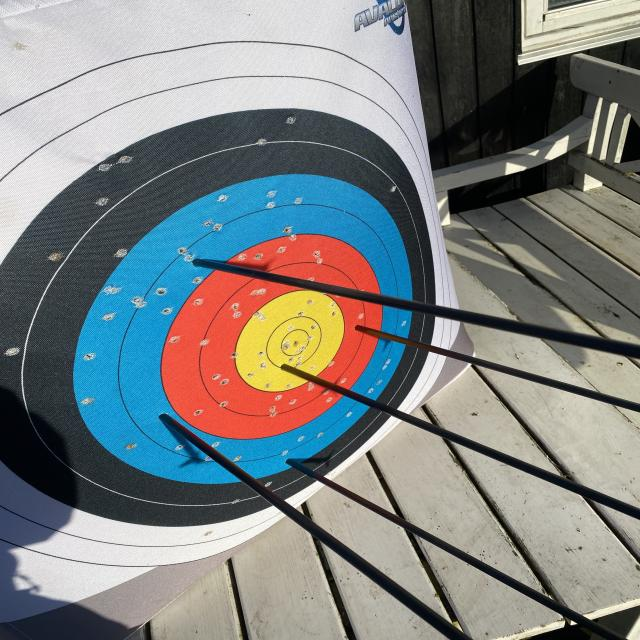Arrow_Blue: (178, 246, 220, 278), (148, 401, 185, 436), (278, 448, 305, 471)
Arrow_Red: (344, 313, 382, 338)
Arrow_Yellow: (268, 355, 304, 379)
